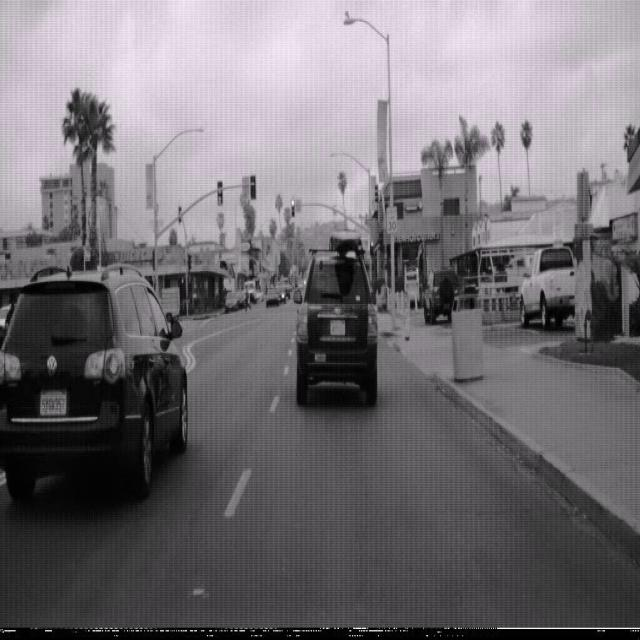speedLimit30: (385, 205, 397, 234)
